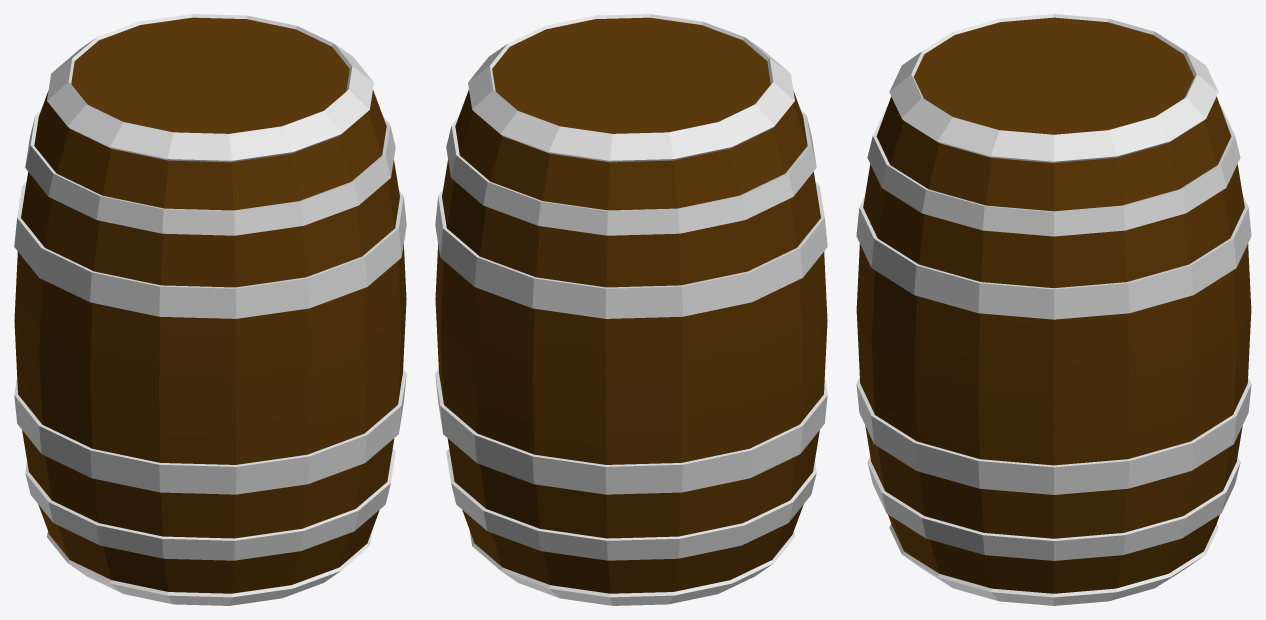
The model's file is barril.fbx.
The picture shows the model from 3 angles, left to right: view 1: azimuth 30°, elevation 25°; view 2: azimuth 150°, elevation 25°; view 3: azimuth 270°, elevation 25°; orthographic projection.
Parts seen in each view (by area): view 1: barril; view 2: barril; view 3: barril.
Boxes of the visible parts, x1,y1,x2,y2 form: barril: (14, 14, 406, 605); barril: (435, 14, 827, 605); barril: (856, 14, 1251, 605).
Size of the model in its own units: 92.21 by 121 by 92.21.
